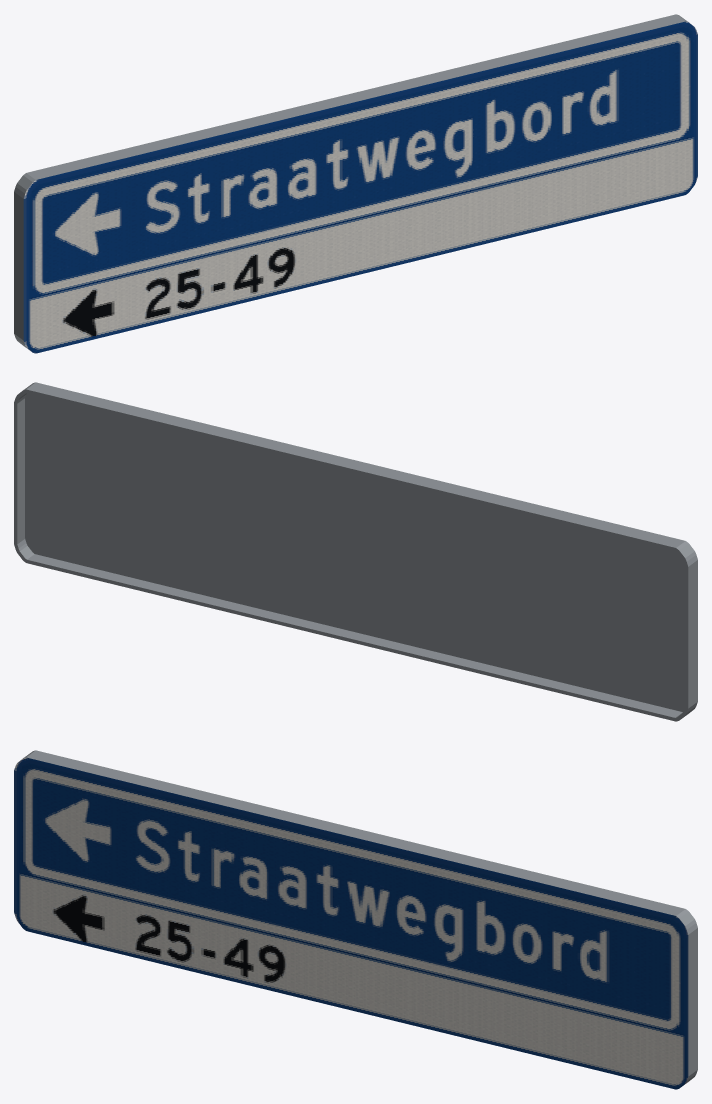
3 renders of one model, top to bottom at view 1: azimuth 30°, elevation 25°; view 2: azimuth 150°, elevation 25°; view 3: azimuth 330°, elevation 25°, orthographic.
Visible parts, largest first — view 1: cat_1e95fbbcf74ab194; view 2: cat_1e95fbbcf74ab194; view 3: cat_1e95fbbcf74ab194.
Part boxes in pixels (box(x1,y1,x2,y2)): cat_1e95fbbcf74ab194: box(14, 14, 697, 353); cat_1e95fbbcf74ab194: box(14, 382, 697, 721); cat_1e95fbbcf74ab194: box(14, 750, 697, 1089).
Size of the model in its own units: 0.6 by 0.015 by 0.1476.
2 materials, 1 textured.
